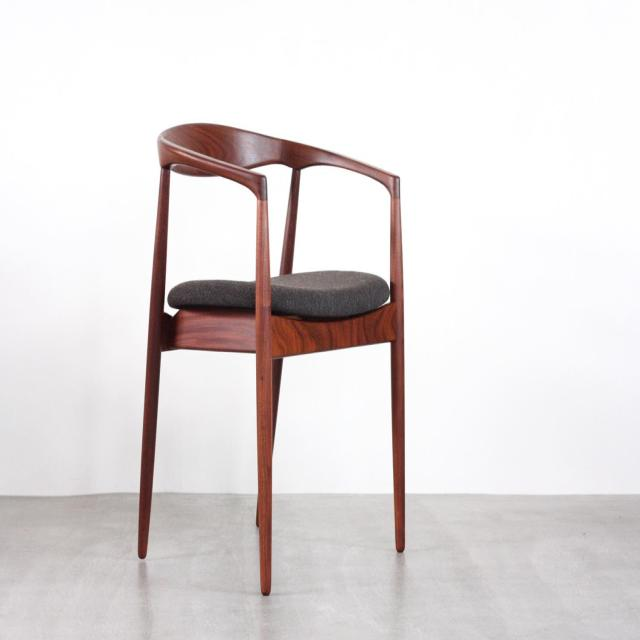chair vintage: (128, 119, 421, 600)
